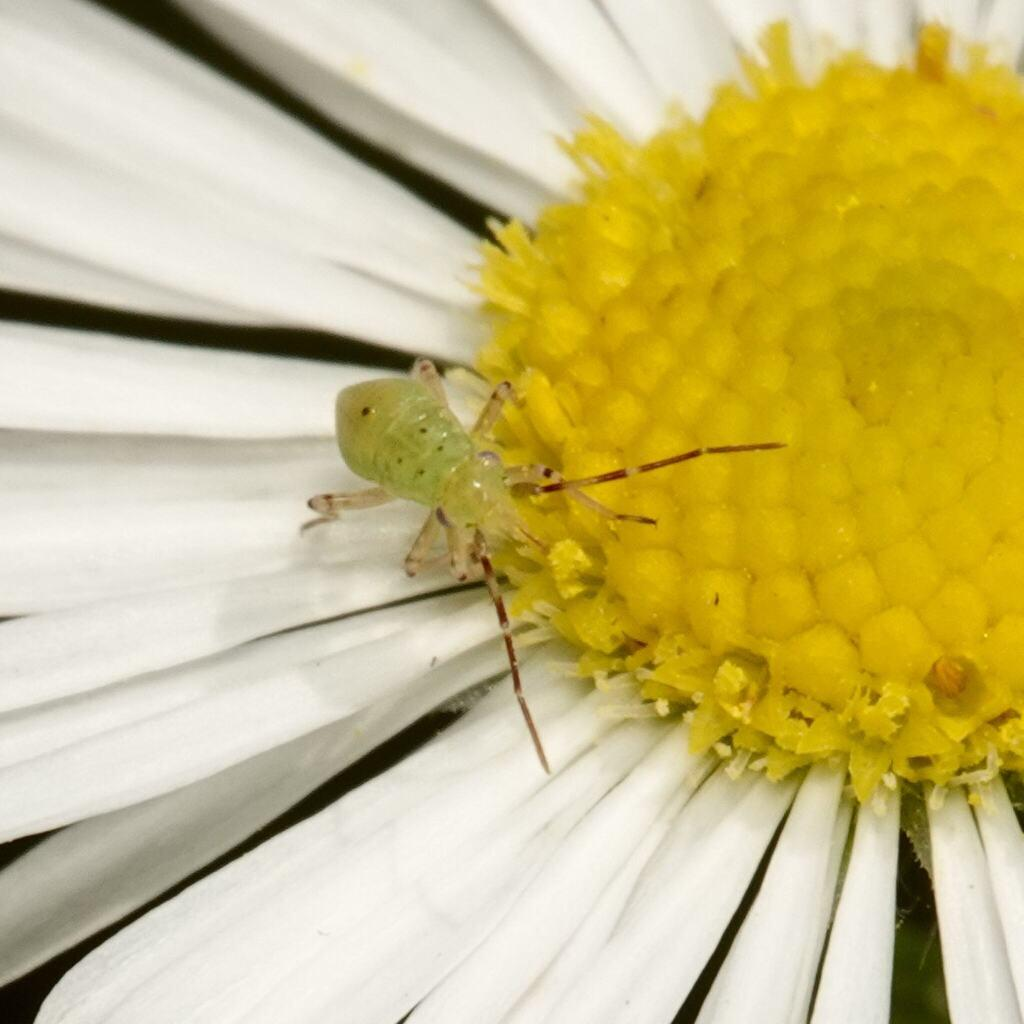plant_bugs: (239, 296, 827, 803)
